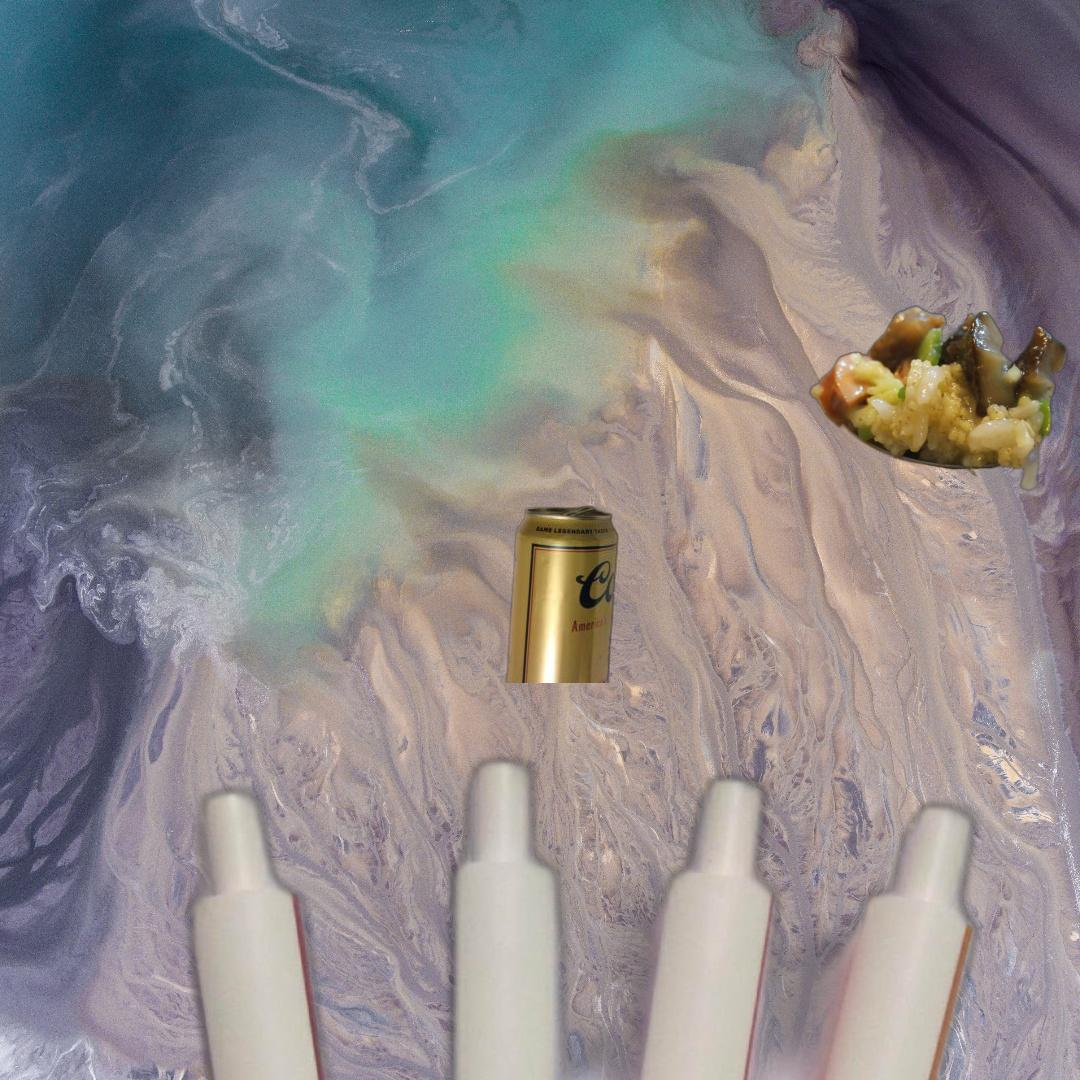biological: (806, 303, 1071, 497)
metal-cans: (502, 503, 623, 683)
penholder: (173, 744, 991, 1080)
